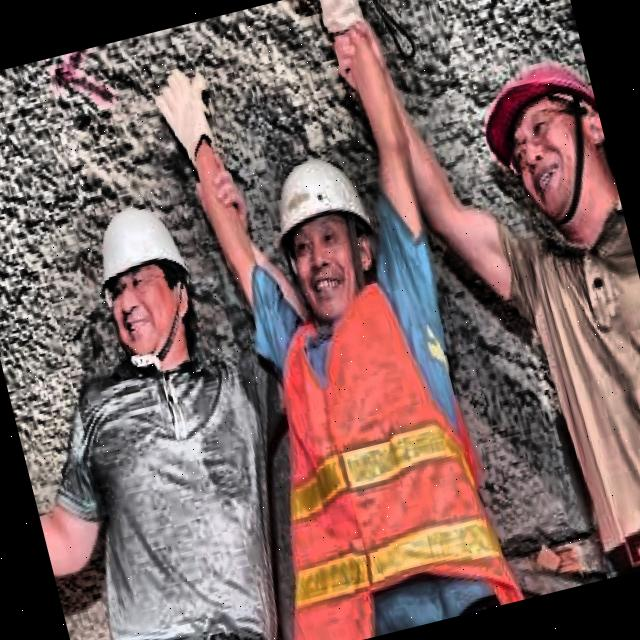helmet: (456, 35, 622, 244), (245, 136, 399, 334), (76, 180, 220, 377)
